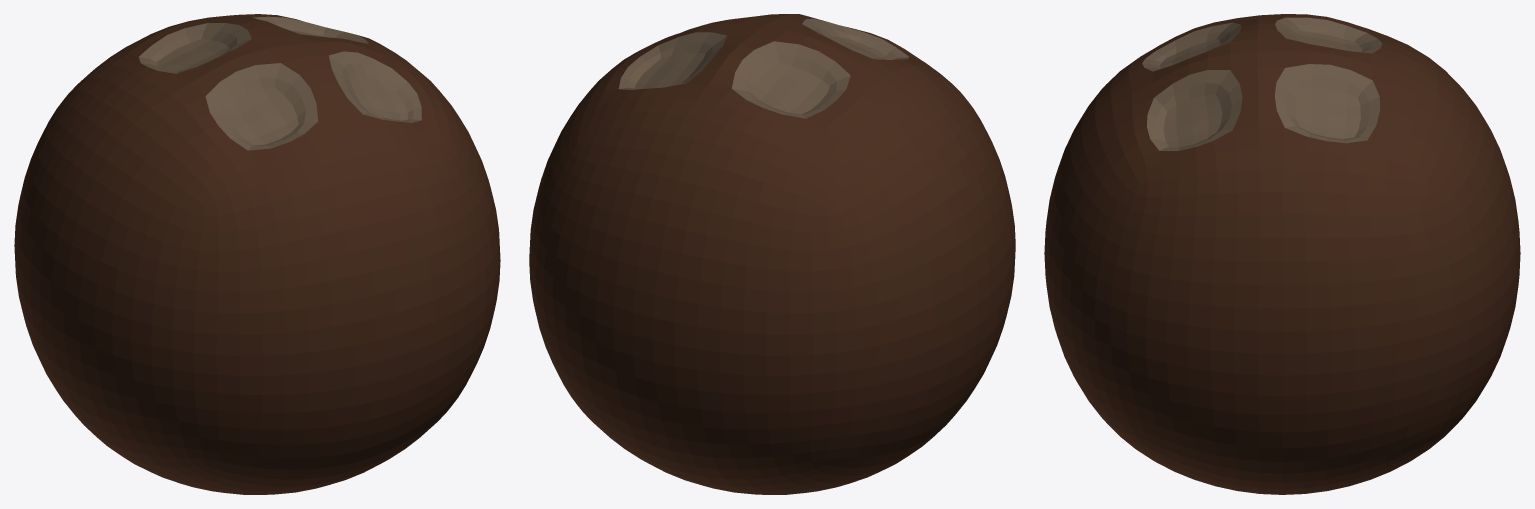
File: coco.fbx
The picture shows the model from 3 angles, left to right: view 1: azimuth 30°, elevation 25°; view 2: azimuth 150°, elevation 25°; view 3: azimuth 270°, elevation 25°; orthographic projection.
Visible parts, largest first — view 1: Cube; view 2: Cube; view 3: Cube.
Part boxes in pixels (bbox=[...]): Cube: bbox=[14, 14, 500, 494]; Cube: bbox=[529, 14, 1015, 494]; Cube: bbox=[1044, 14, 1520, 494].
Bounding box in the file's own units: 166 × 165 × 166.
